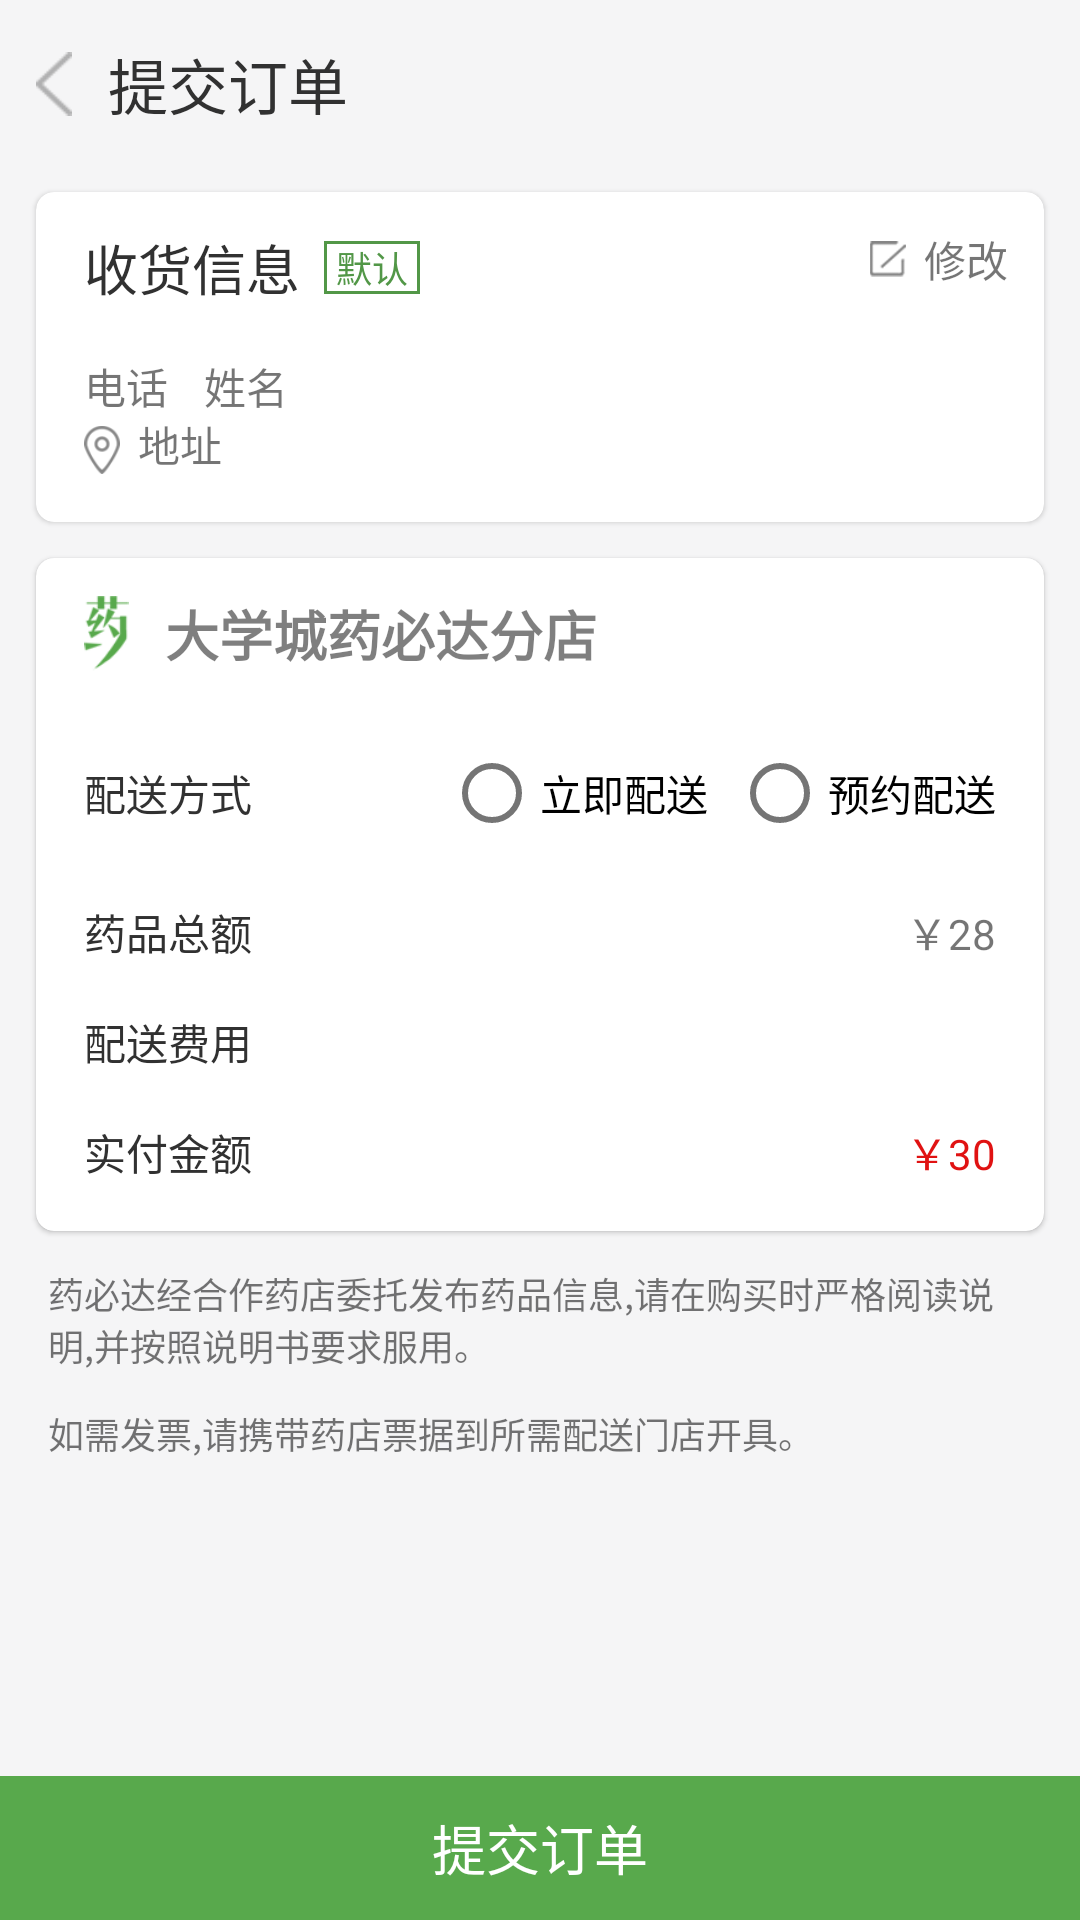

Point at icon controls on the screen. Image size 1080px x 1920px, points as (x,y).
back: (54,84)
